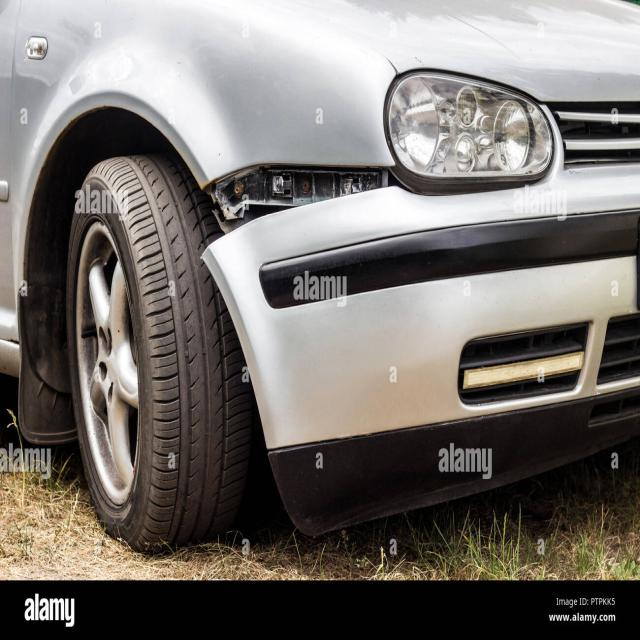misalignment: (200, 163, 412, 254)
